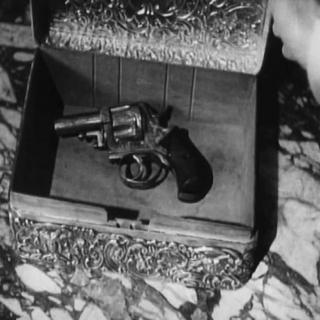gun: (51, 95, 215, 206)
